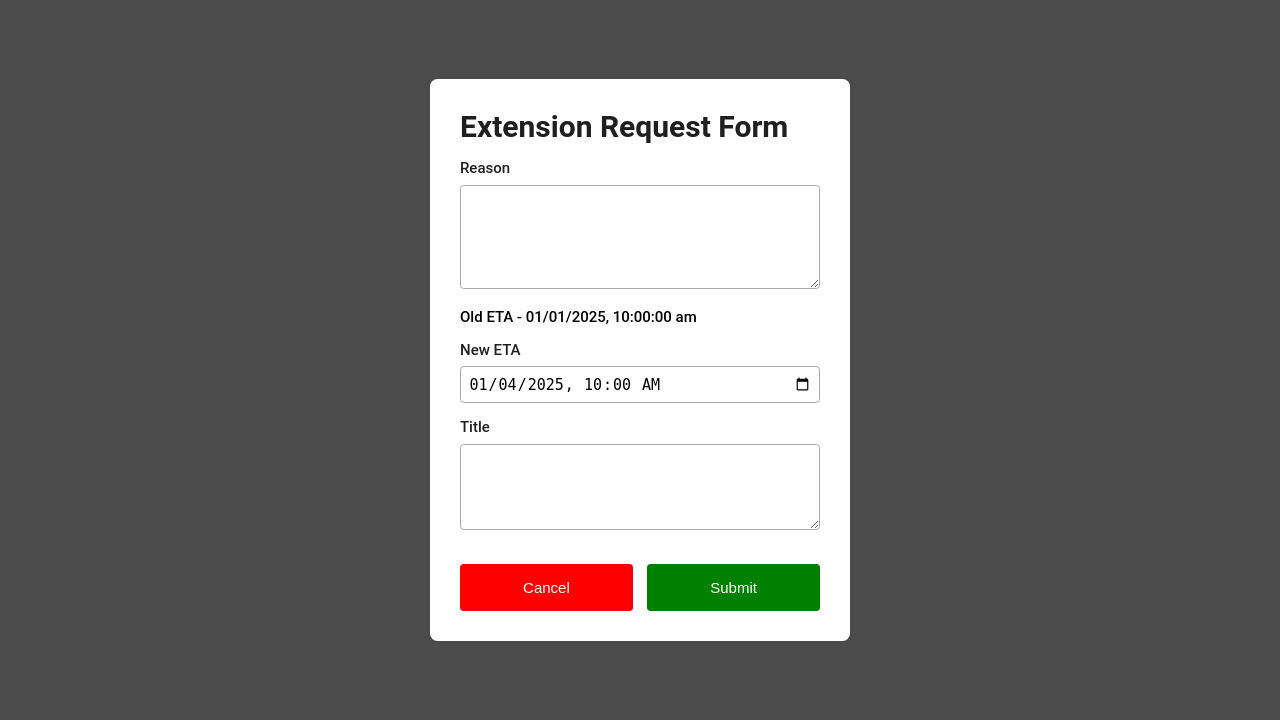
ExtensionRequestForm Component › should disable submit button if newEndsOn <= oldEndsOn
Replace the text in the field with test id "new-eta-input" with "2024-01-01T10:00" at (640, 385), box [460,366,820,403]
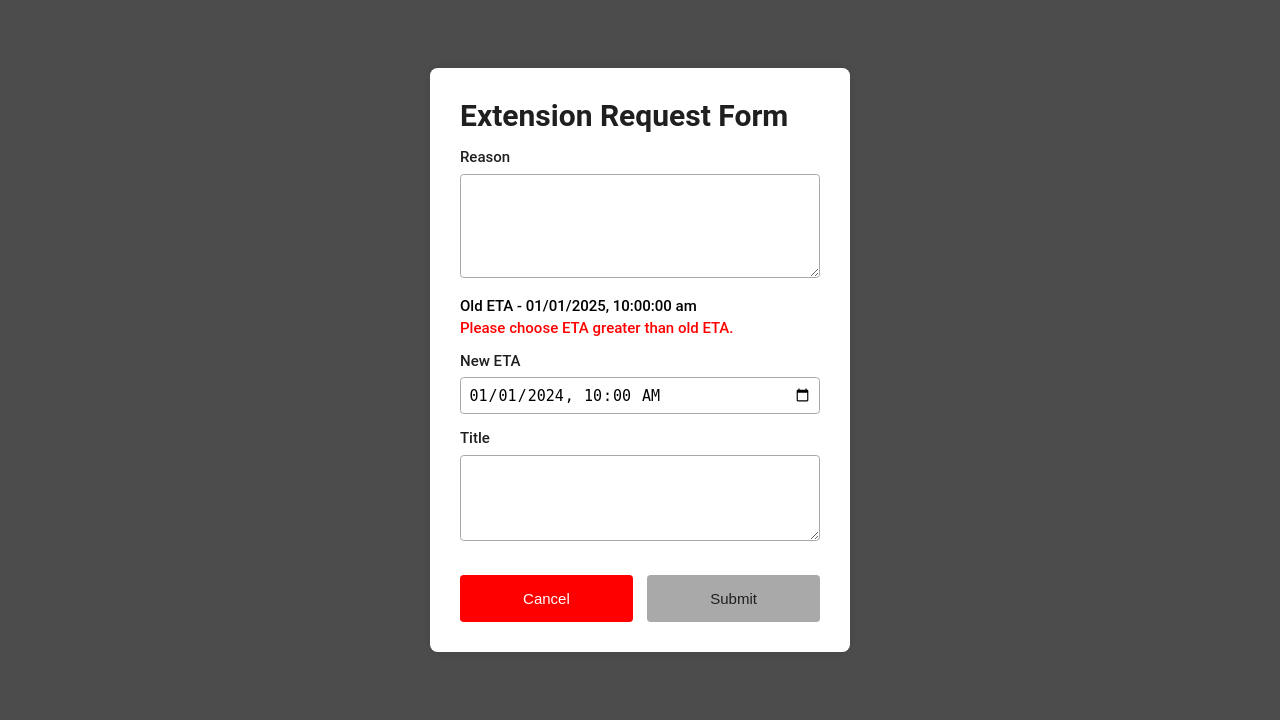
Now the text "Please choose ETA greater than old ETA." is shown, box [460,319,734,337]
Now the button with test id "submit-button" is disabled, box [647,575,820,622]
